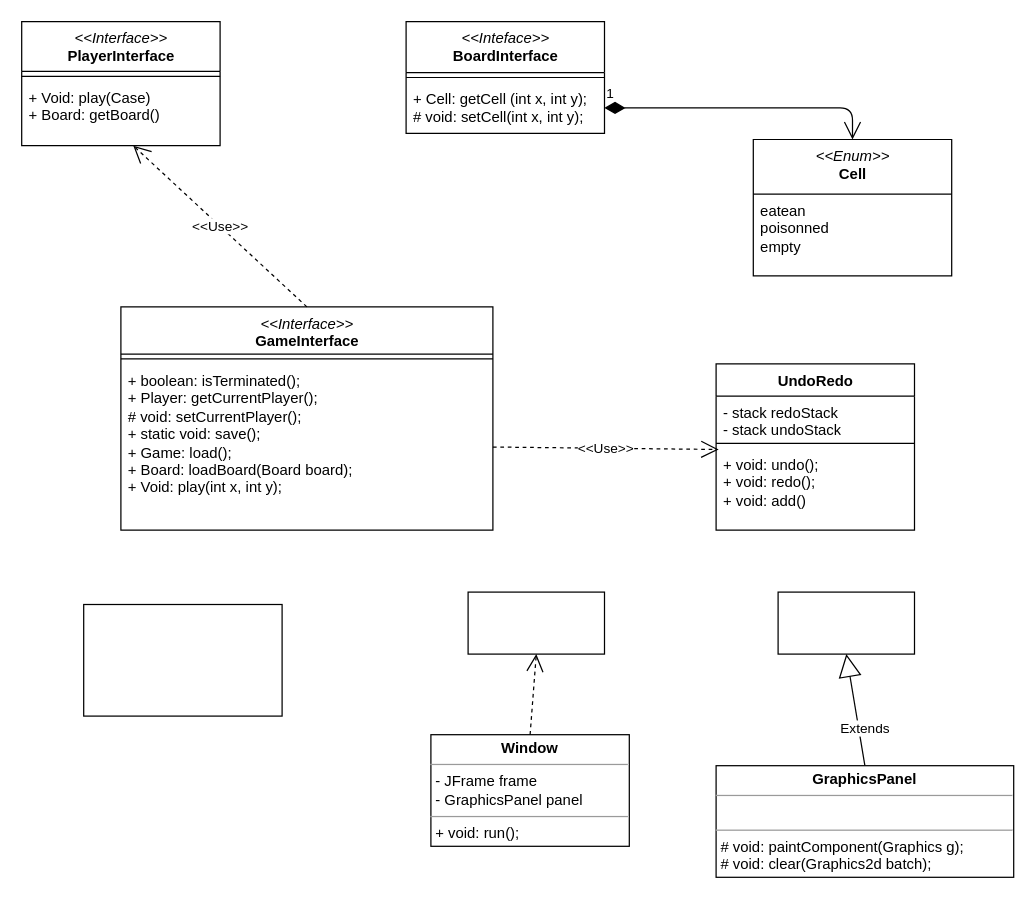
Image size: 1035x899. Some labels were removed from this diagram. The shapes that lost their labels are listed below. From the top down, each one's centre as x and y in pixels, then its label:
the point at 535,622: Runnable
the point at 845,622: JComponent
the point at 182,659: Program + void: main();
